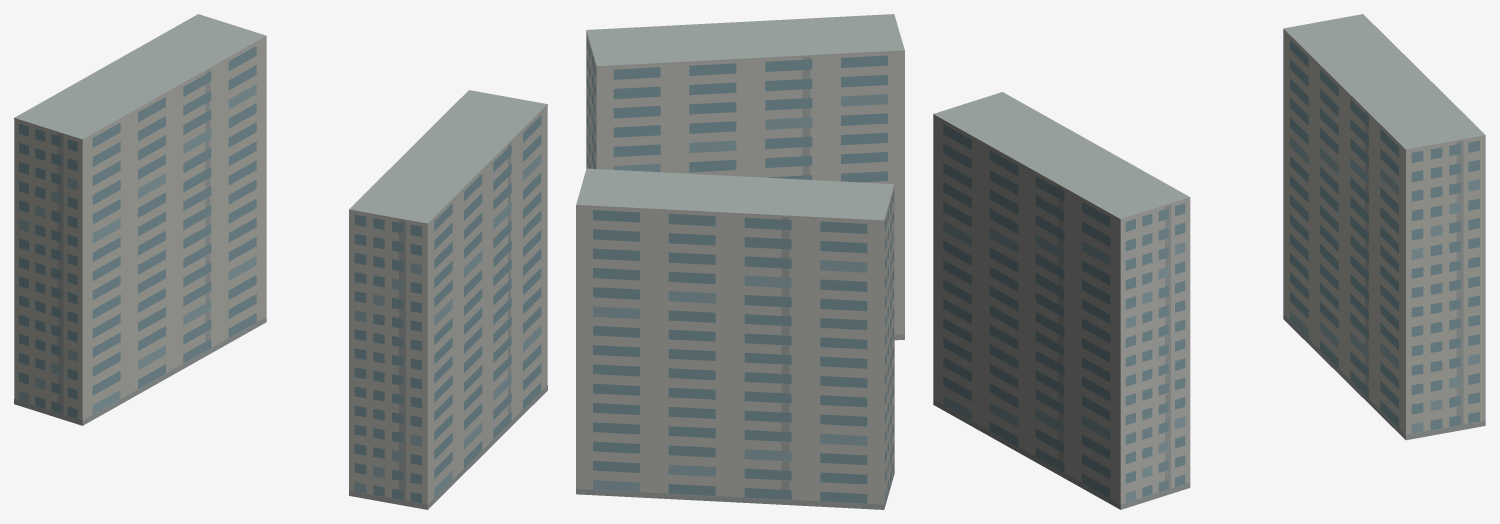
File: residential-485f62b9-3ce8-4c03-b7db-e6ad4f08d03f.glb
3 renders of one model, left to right at view 1: azimuth 30°, elevation 25°; view 2: azimuth 150°, elevation 25°; view 3: azimuth 270°, elevation 25°, orthographic.
Visible parts, largest first — view 1: residential-485f62b9-3ce8-4c03-b7db-e6ad4f08d03f.tmp; view 2: residential-485f62b9-3ce8-4c03-b7db-e6ad4f08d03f.tmp; view 3: residential-485f62b9-3ce8-4c03-b7db-e6ad4f08d03f.tmp.
Boxes of the visible parts, <box> form: residential-485f62b9-3ce8-4c03-b7db-e6ad4f08d03f.tmp: <box>14,14,547,509</box>; residential-485f62b9-3ce8-4c03-b7db-e6ad4f08d03f.tmp: <box>576,14,904,509</box>; residential-485f62b9-3ce8-4c03-b7db-e6ad4f08d03f.tmp: <box>933,14,1485,509</box>.
Size of the model in its own units: 71.15 by 47 by 80.96.
